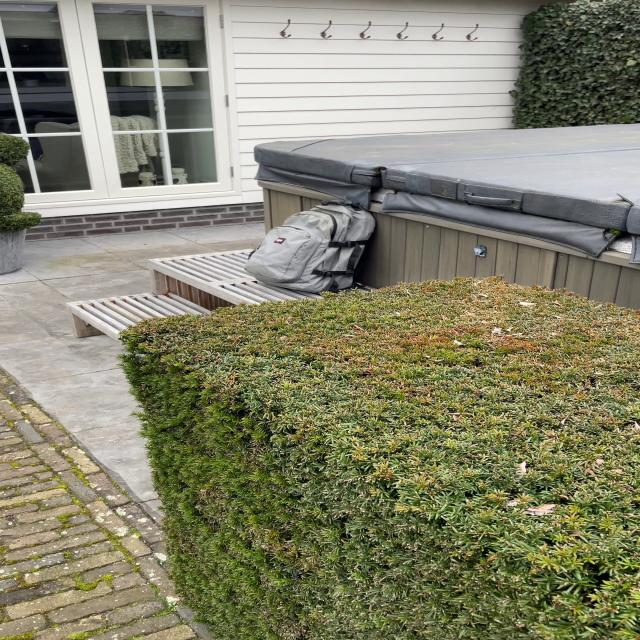backpack: (239, 196, 385, 299)
